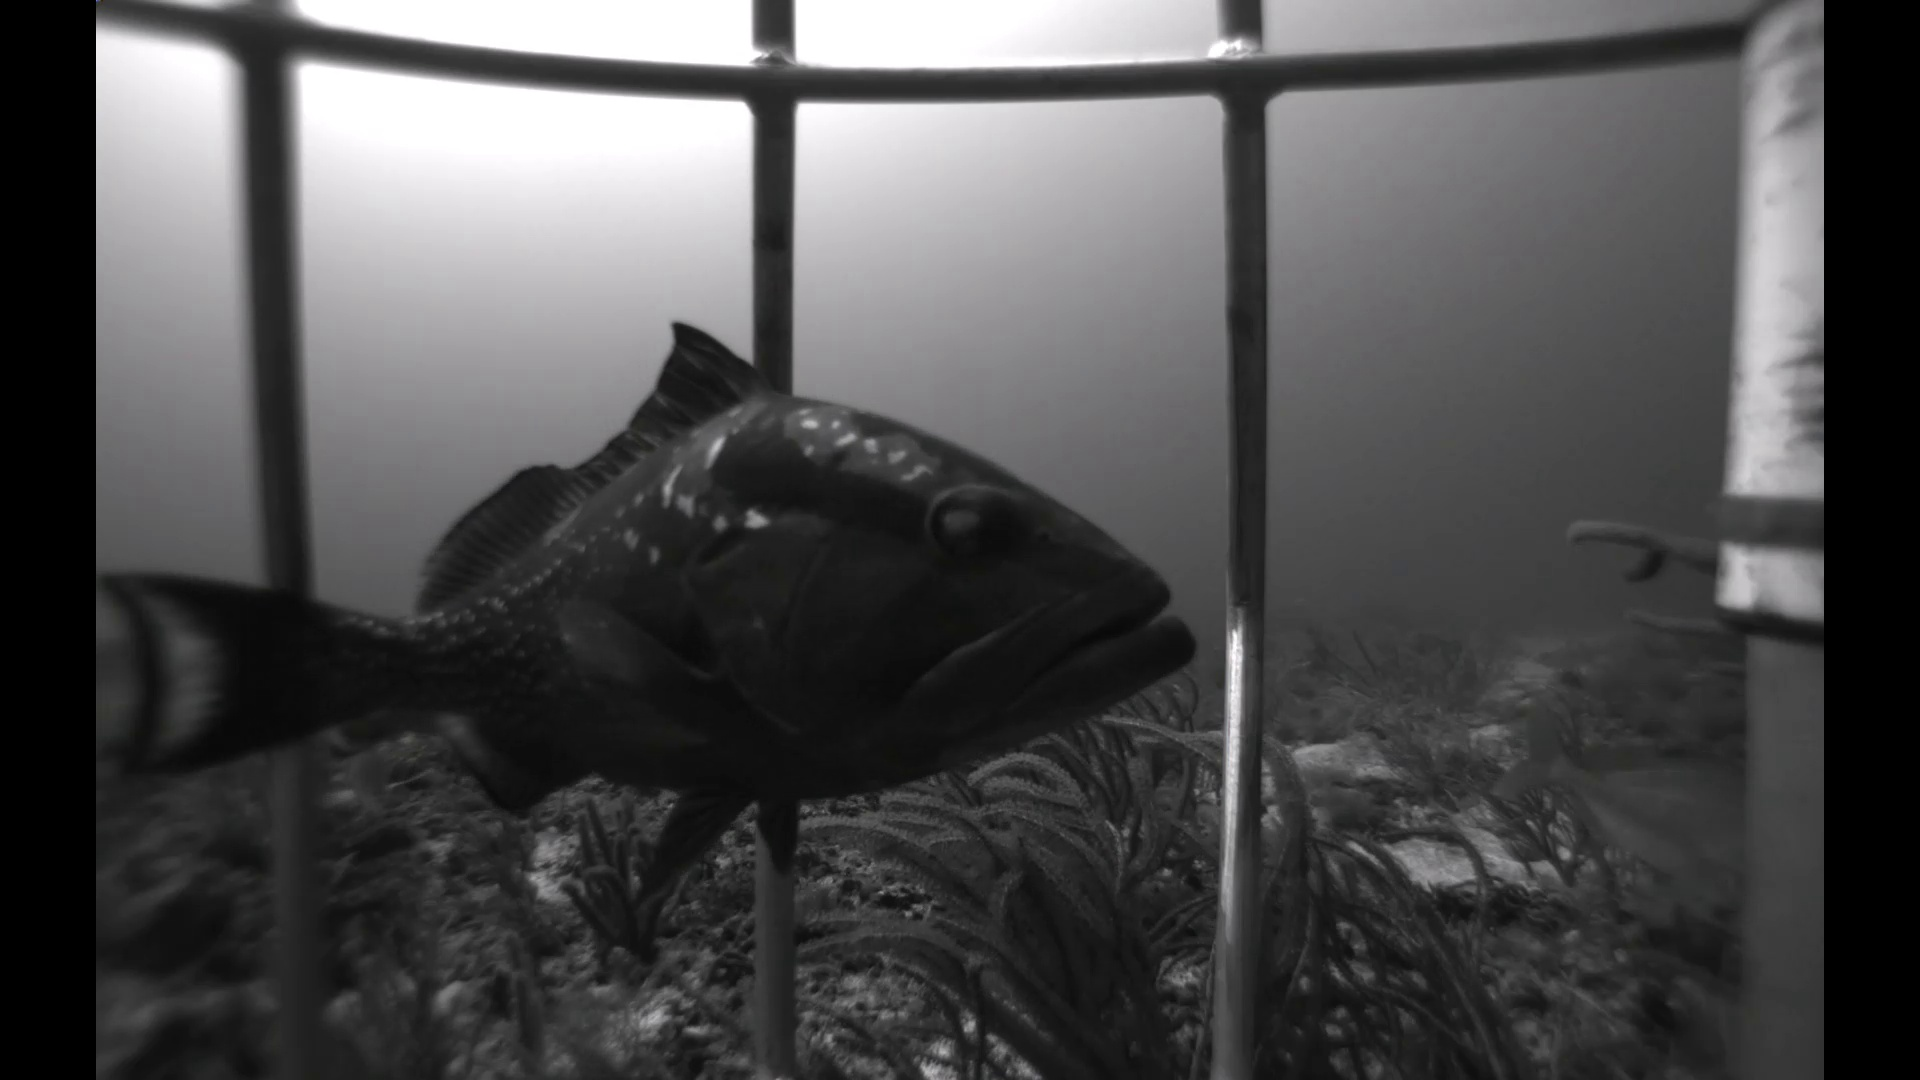CALAMUSNODOSUS-170210608: (1472, 680, 1754, 932), (316, 746, 433, 825)
EPINEPHELUSMORIO-170021211: (105, 309, 1182, 906), (316, 694, 446, 775)
